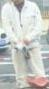boots: (27, 76, 49, 88), (1, 1, 1, 1)
gloves: (1, 1, 1, 1)
hard-hat: (1, 0, 1, 1)
ppe-suit: (0, 3, 46, 85)
